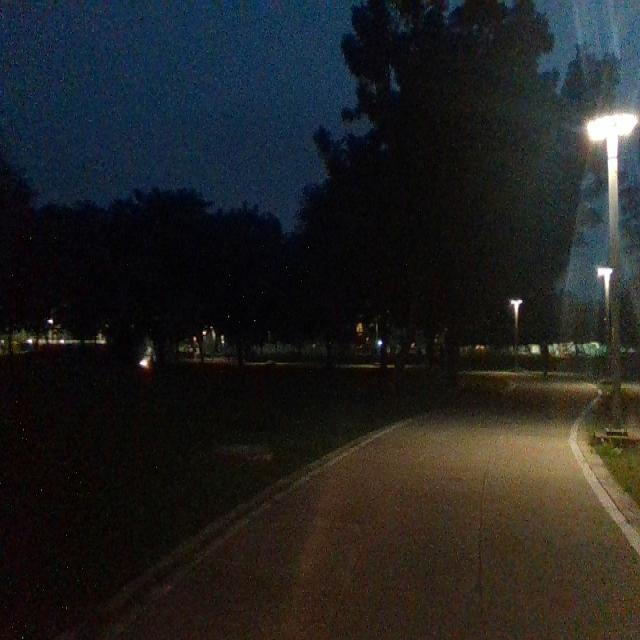lane: (120, 372, 640, 640)
